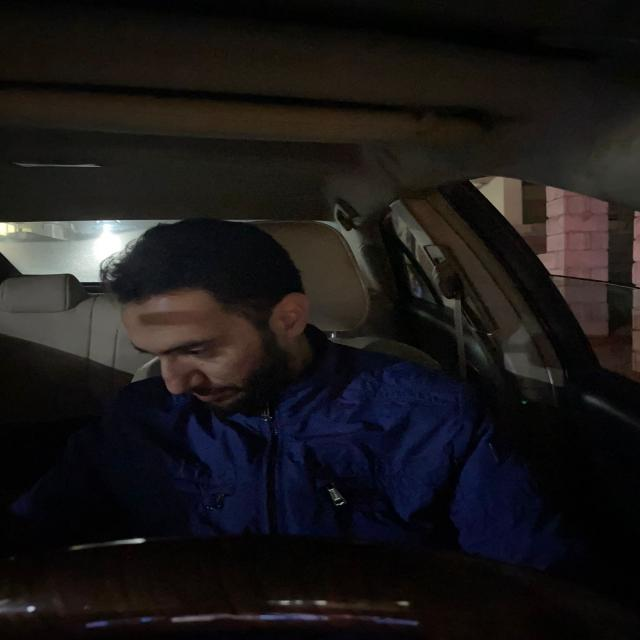person: (103, 207, 320, 419)
